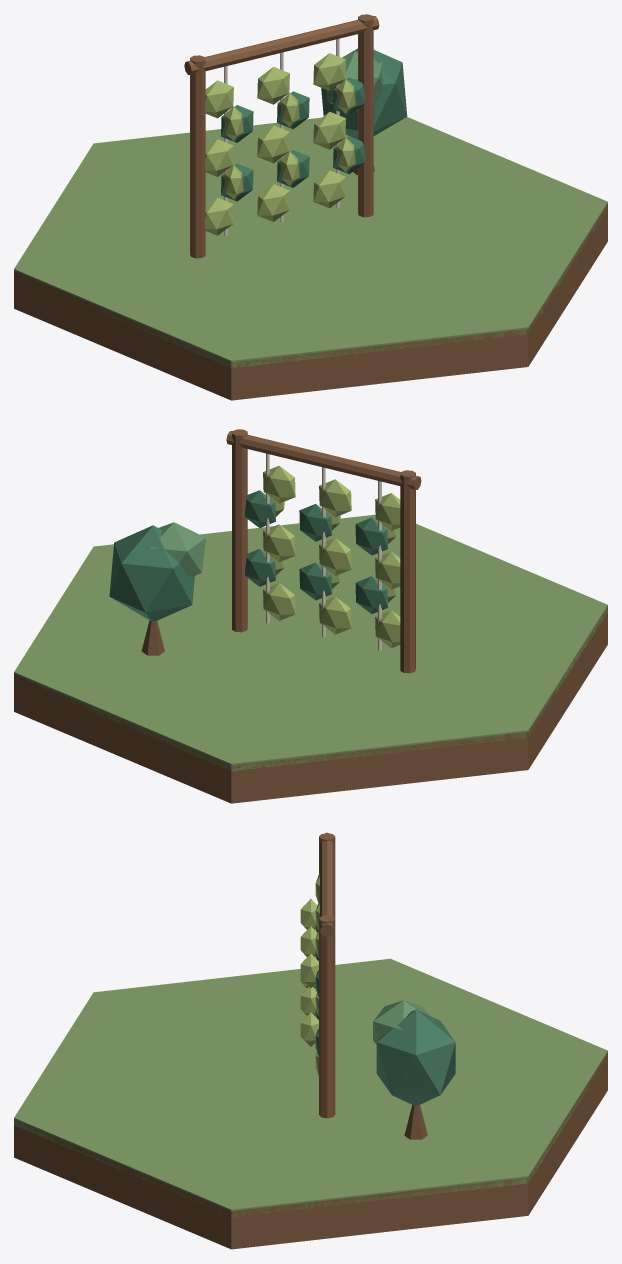
Rendered from hopGrove.glb.
3 renders of one model, top to bottom at view 1: azimuth 30°, elevation 25°; view 2: azimuth 150°, elevation 25°; view 3: azimuth 270°, elevation 25°, orthographic.
Visible parts, largest first — view 1: Cone.051, Cone.050, Cone.052, Cone.053, Cone.054, Icosphere.063, Icosphere.049, Icosphere.052, Icosphere.059, Icosphere.062, Icosphere.055, Icosphere.056 (+4 smaller); view 2: Cone.051, Cone.050, Icosphere.063, Cone.052, Cone.053, Cone.054, Icosphere.064, Icosphere.049, Icosphere.052, Icosphere.062, Icosphere.055, Icosphere.059 (+11 smaller); view 3: Cone.051, Cone.050, Icosphere.063, Cone.053, Cone.054, Icosphere.064, Cone.058.
Boxes of the visible parts, bbox=[...] form: Cone.051: bbox=[14, 117, 607, 367]; Cone.050: bbox=[14, 204, 607, 400]; Cone.052: bbox=[190, 55, 205, 258]; Cone.053: bbox=[358, 14, 373, 217]; Cone.054: bbox=[184, 16, 379, 74]; Icosphere.063: bbox=[321, 48, 407, 139]; Icosphere.049: bbox=[257, 184, 289, 221]; Icosphere.052: bbox=[257, 125, 289, 163]; Icosphere.059: bbox=[313, 112, 345, 149]; Icosphere.062: bbox=[313, 53, 345, 90]; Icosphere.055: bbox=[257, 67, 289, 104]; Icosphere.056: bbox=[313, 170, 345, 208]; Cone.051: bbox=[14, 514, 607, 771]; Cone.050: bbox=[14, 607, 607, 803]; Icosphere.063: bbox=[109, 525, 194, 621]; Cone.052: bbox=[400, 470, 415, 673]; Cone.053: bbox=[232, 429, 247, 632]; Cone.054: bbox=[226, 431, 421, 489]; Icosphere.064: bbox=[150, 522, 205, 575]; Icosphere.049: bbox=[319, 596, 351, 634]; Icosphere.052: bbox=[319, 538, 351, 575]; Icosphere.062: bbox=[263, 465, 295, 503]; Icosphere.055: bbox=[319, 479, 351, 517]; Icosphere.059: bbox=[263, 524, 295, 562]; Cone.051: bbox=[14, 958, 607, 1216]; Cone.050: bbox=[14, 1052, 607, 1249]; Icosphere.063: bbox=[376, 1009, 455, 1105]; Cone.053: bbox=[319, 915, 335, 1118]; Cone.054: bbox=[320, 832, 334, 937]; Icosphere.064: bbox=[373, 1000, 433, 1044]; Cone.058: bbox=[404, 1105, 427, 1139].
Size of the model in its own units: 3.67 by 1.61 by 3.67.
